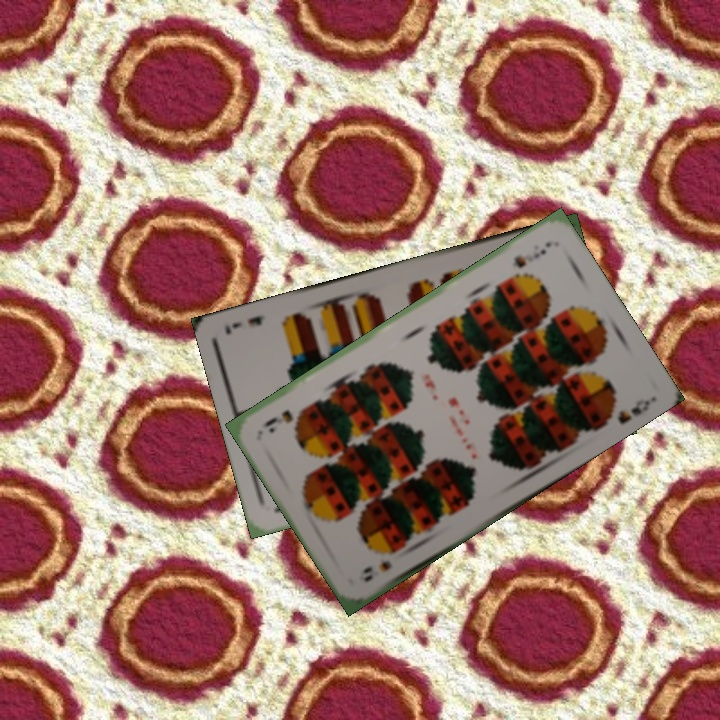S9: (509, 237, 554, 271), (358, 556, 395, 585)
